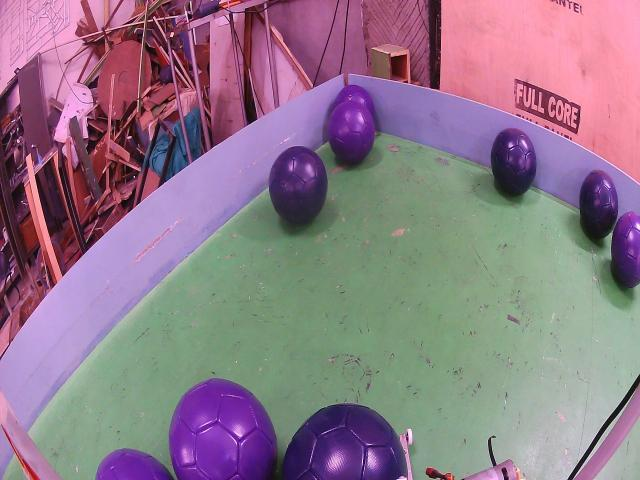jambhalya: (169, 378, 278, 480), (328, 100, 375, 163), (96, 448, 174, 480), (611, 212, 640, 288), (334, 85, 375, 118)
kaalyya: (282, 403, 410, 480), (269, 147, 328, 223), (491, 128, 536, 195), (580, 170, 619, 238)
